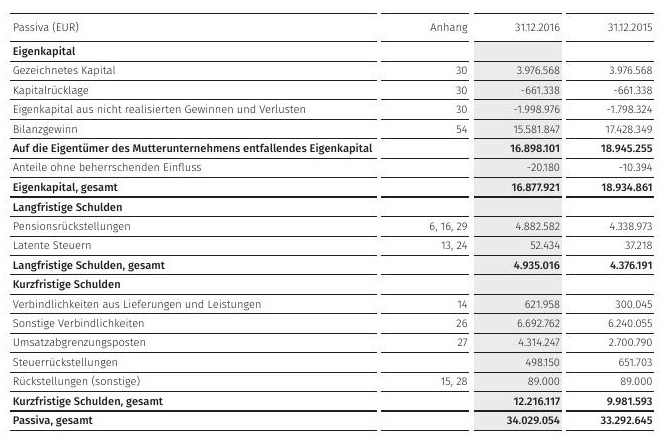table: (0, 0, 666, 445)
